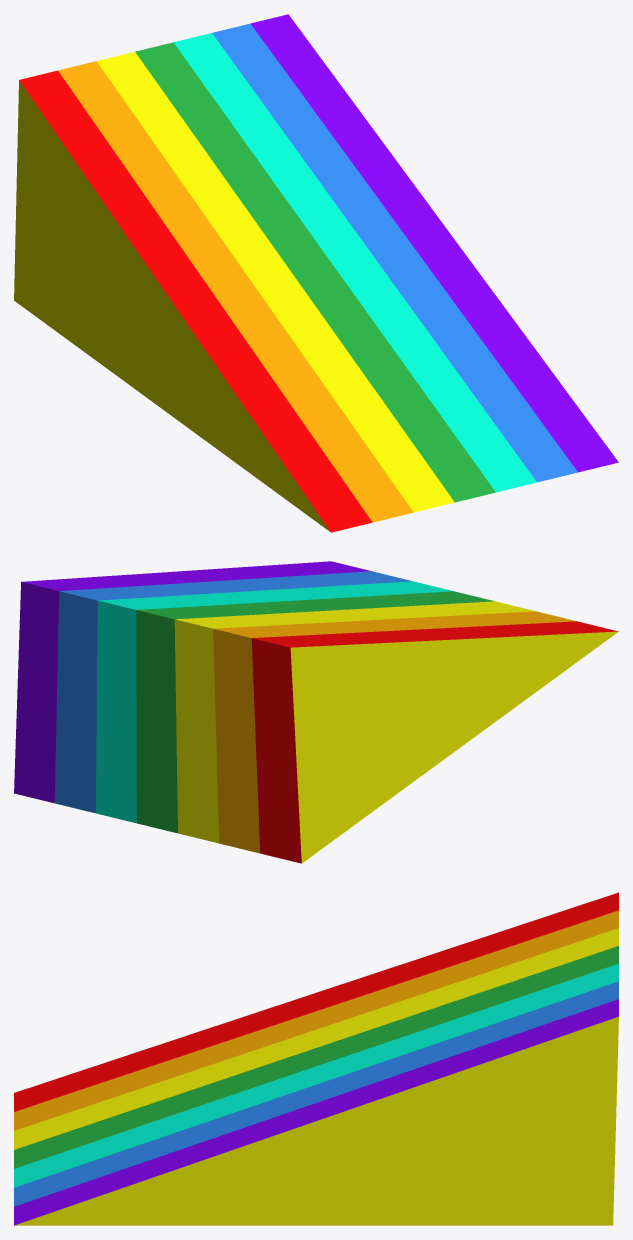
File: PlatformUp2.fbx
The picture shows the model from 3 angles, top to bottom: view 1: azimuth 30°, elevation 25°; view 2: azimuth 150°, elevation 25°; view 3: azimuth 270°, elevation 25°; orthographic projection. The views are drawn at different scales.
Visible parts, largest first — view 1: PlatformUp2; view 2: PlatformUp2; view 3: PlatformUp2.
Part boxes in pixels (bbox=[...]): PlatformUp2: bbox=[14, 14, 618, 532]; PlatformUp2: bbox=[14, 561, 618, 863]; PlatformUp2: bbox=[14, 892, 618, 1225].
Size of the model in its own units: 11 by 7.9 by 21.2.
